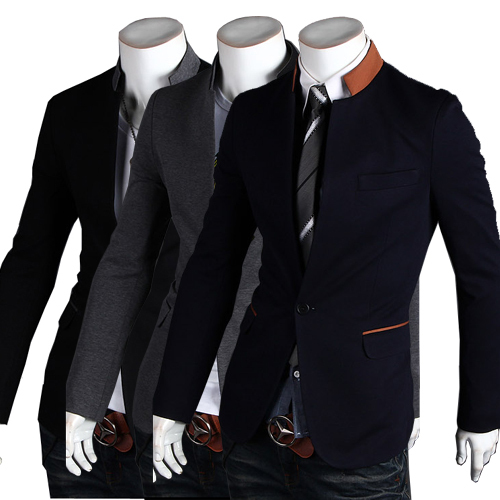F_M_suit jacket: (228, 49, 500, 437)
